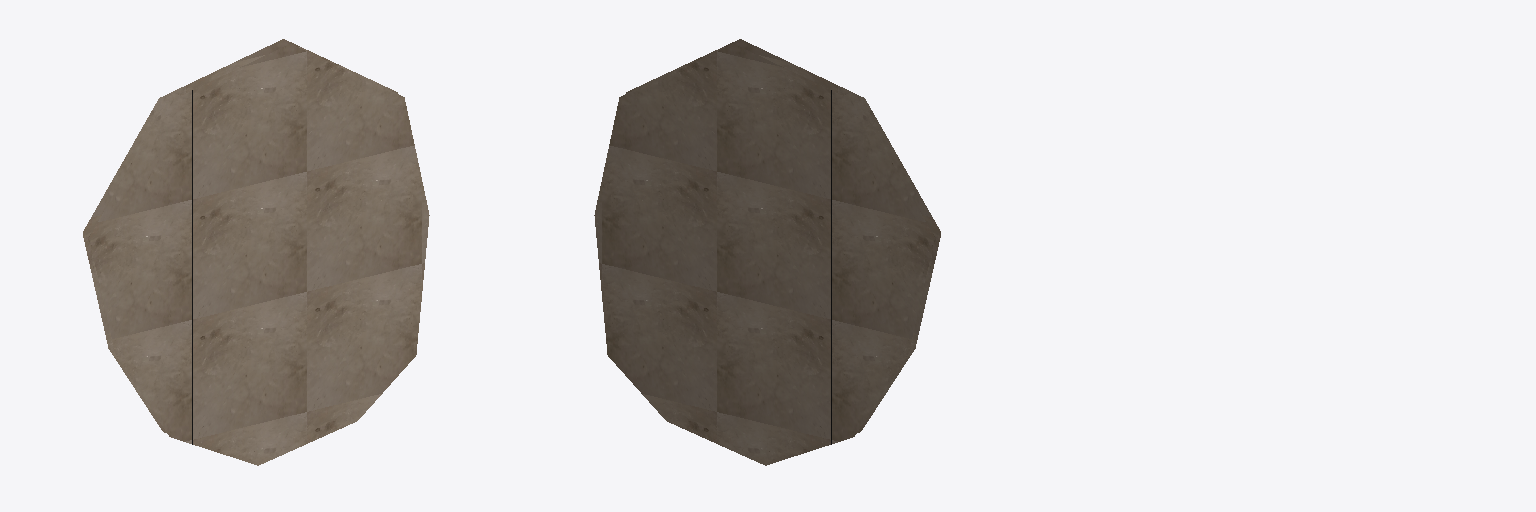
3 views of the same model, side by side, from view 1: azimuth 30°, elevation 25°; view 2: azimuth 150°, elevation 25°; view 3: azimuth 270°, elevation 25° (orthographic).
Parts seen in each view (by area): view 1: floor_11; view 2: floor_11; view 3: none.
Boxes of the visible parts, box(x1,y1,x2,y2) form: floor_11: box(83, 39, 429, 465); floor_11: box(594, 39, 940, 465).
Size of the model in its own units: 2.97 by 3.45 by 0.1.
Materials: 1 (1 with a texture image).